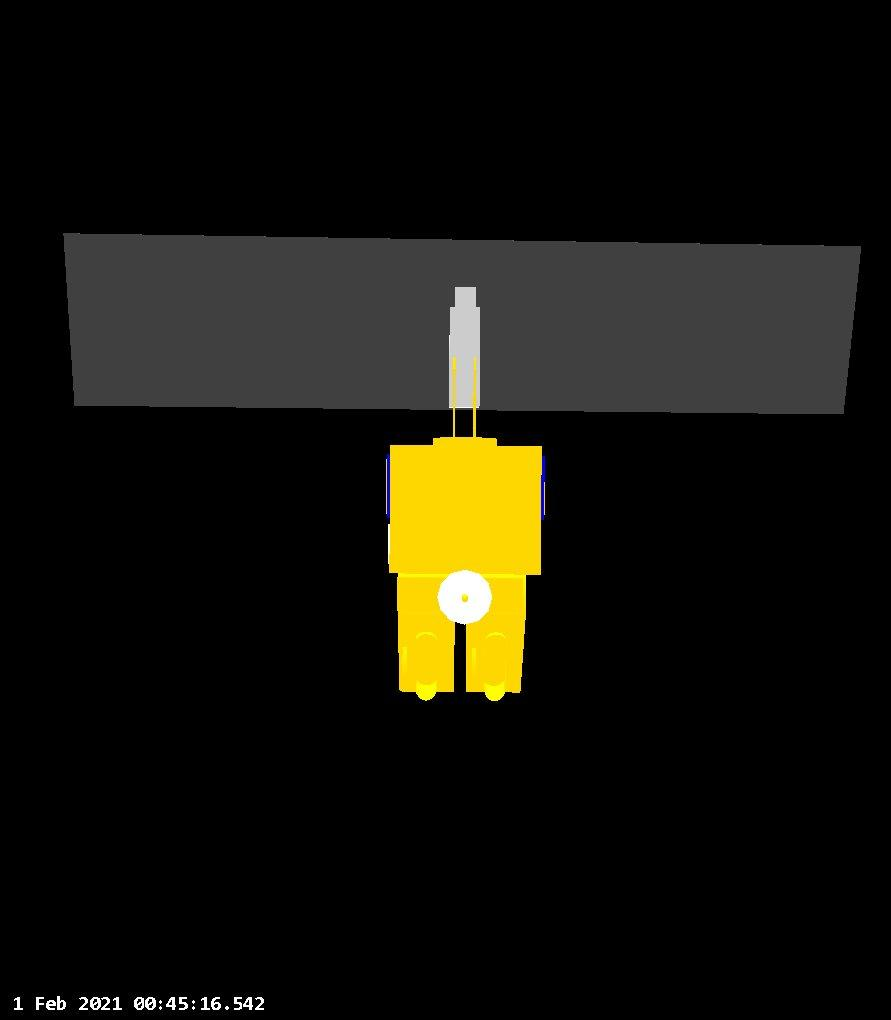antenna: (437, 567, 495, 628)
body: (377, 424, 549, 707)
solar: (59, 226, 867, 419)
